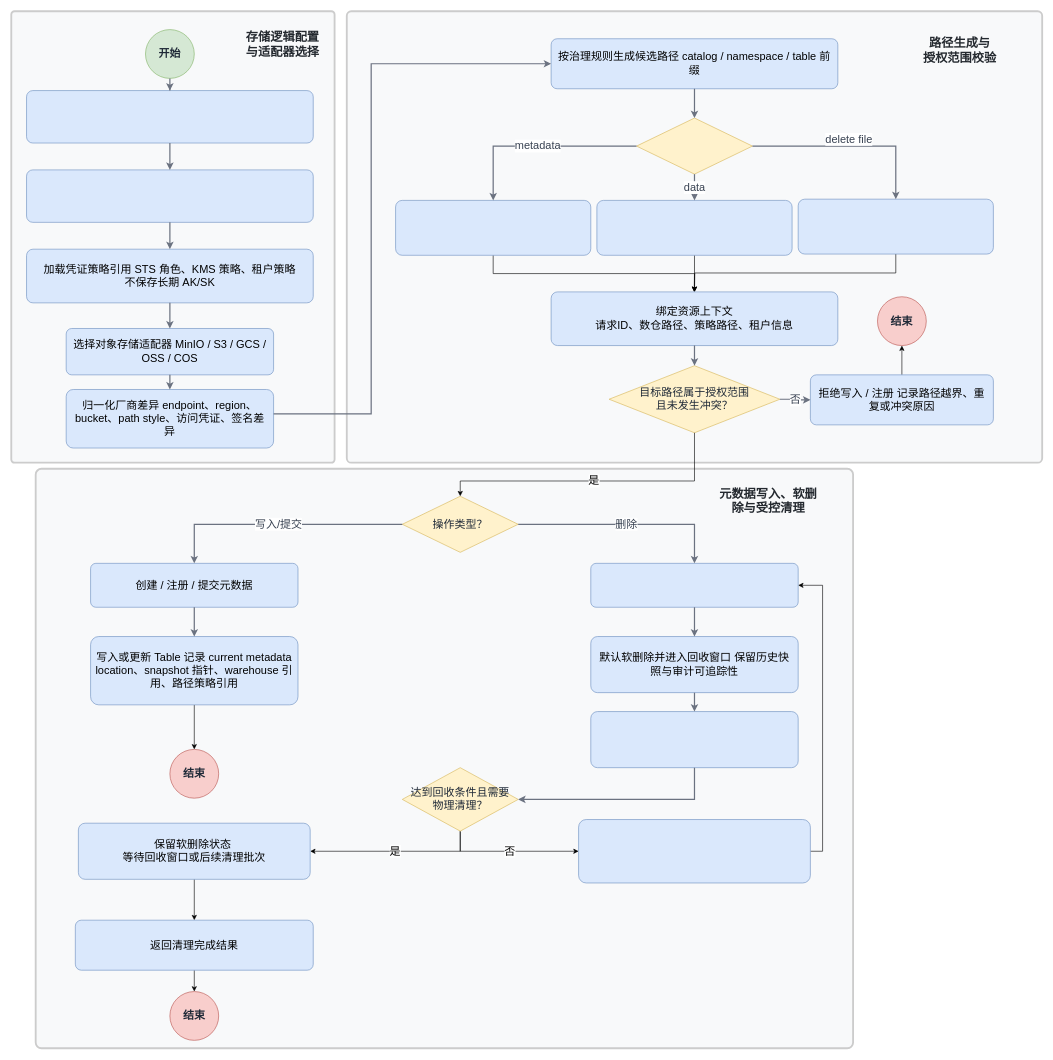
Image size: 1053x1060. Some labels were removed from this diagram. The shapes that lost their labels are listed below. From the top down, each one's centre as x and y in pixels, then its label:
point 169,116: 接收已授权的资源变更或表元数据操作 来自 REST Catalog 资源处理 / metadata commit 流程
point 694,145: 路径用途？
point 169,195: 加载 Catalog / Warehouse 存储逻辑配置 存储后端、bucket、前缀、路径策略引用
point 493,227: metadata 路径 metadata.json、manifest、snapshot 相关文件
point 694,227: data 路径 数据文件写入目录
point 895,226: delete file 路径 position / equality delete 文件目录
point 694,585: Drop Table / 删除资源
point 694,739: 不在请求链路内直接物理删除 避免误删历史快照或其他租户数据
point 694,851: 受控后台清理任务 再次校验软删除窗口、快照引用、租户边界与路径归属
